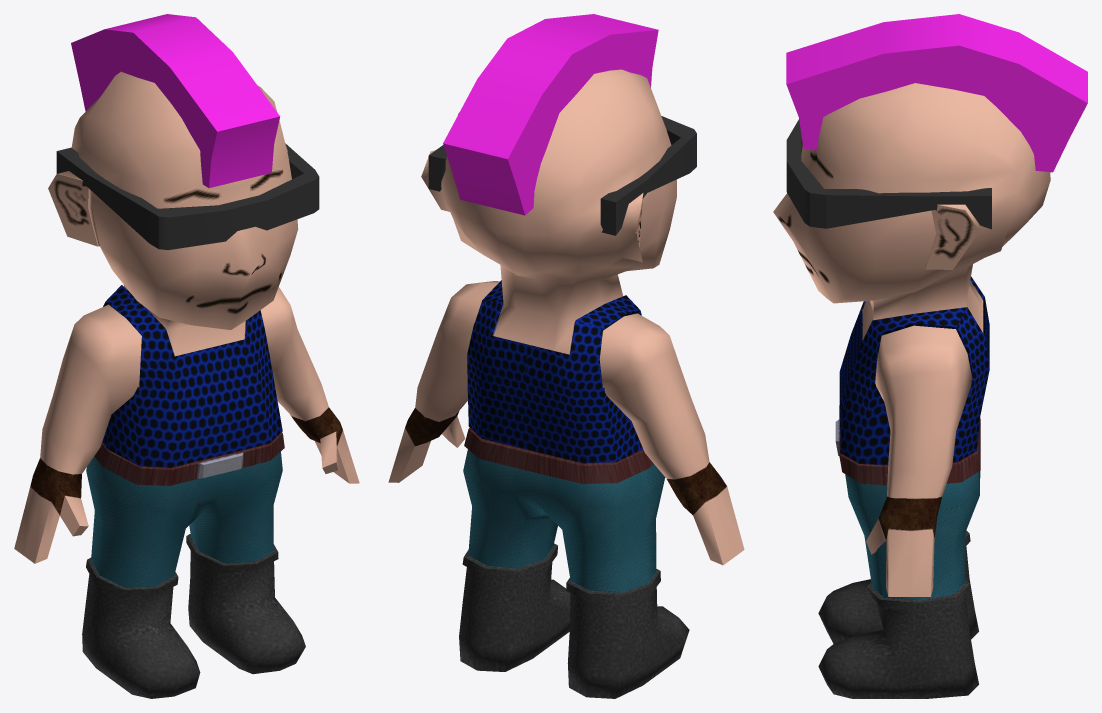
Rendered from the_enemy.glb.
3 renders of one model, left to right at view 1: azimuth 30°, elevation 25°; view 2: azimuth 150°, elevation 25°; view 3: azimuth 270°, elevation 25°, orthographic. The views are drawn at different scales.
Parts seen in each view (by area): view 1: polySurface4; view 2: polySurface4; view 3: polySurface4.
Boxes of the visible parts, x1,y1,x2,y2 form: polySurface4: [14, 14, 359, 698]; polySurface4: [388, 14, 744, 698]; polySurface4: [773, 14, 1087, 698].
Size of the model in its own units: 0.73 by 1.31 by 0.5948.
1 material, 1 textured.
